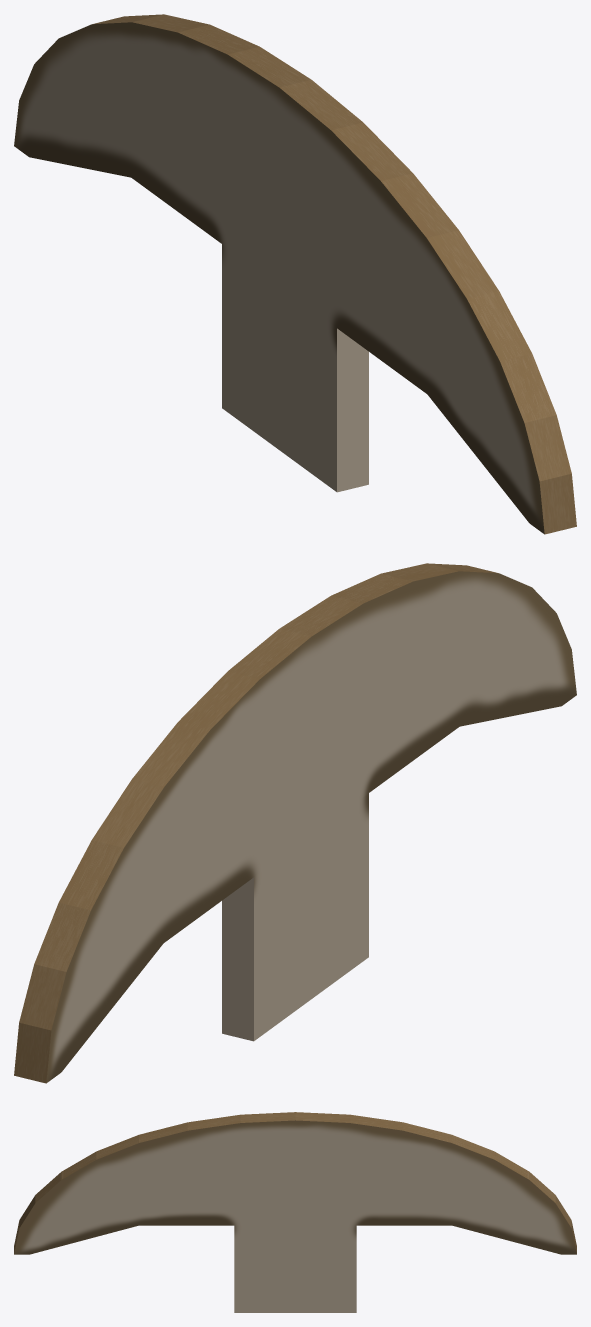
File: mushroomSlice.fbx
3 renders of one model, top to bottom at view 1: azimuth 30°, elevation 25°; view 2: azimuth 150°, elevation 25°; view 3: azimuth 270°, elevation 25°, orthographic. The views are drawn at different scales.
Parts seen in each view (by area): view 1: Cube; view 2: Cube; view 3: Cube.
Boxes of the visible parts, left/top/right/bottom form: Cube: left=14, top=14, right=576, bottom=534; Cube: left=14, top=563, right=576, bottom=1083; Cube: left=14, top=1112, right=576, bottom=1312.
Bounding box in the file's own units: 26.76 × 287 × 761.
